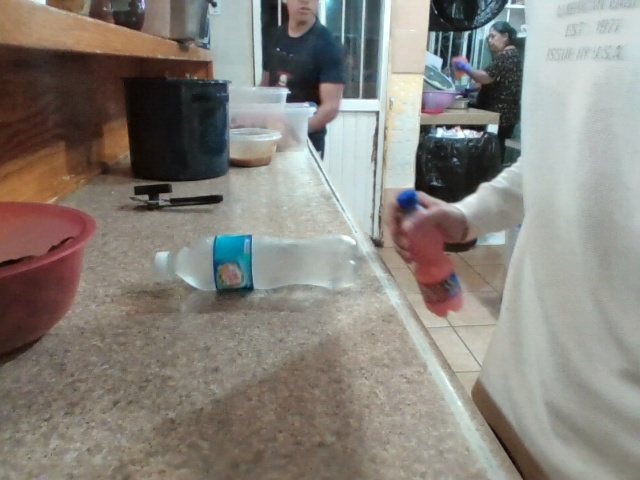botella: (127, 226, 388, 328), (385, 169, 504, 323)
